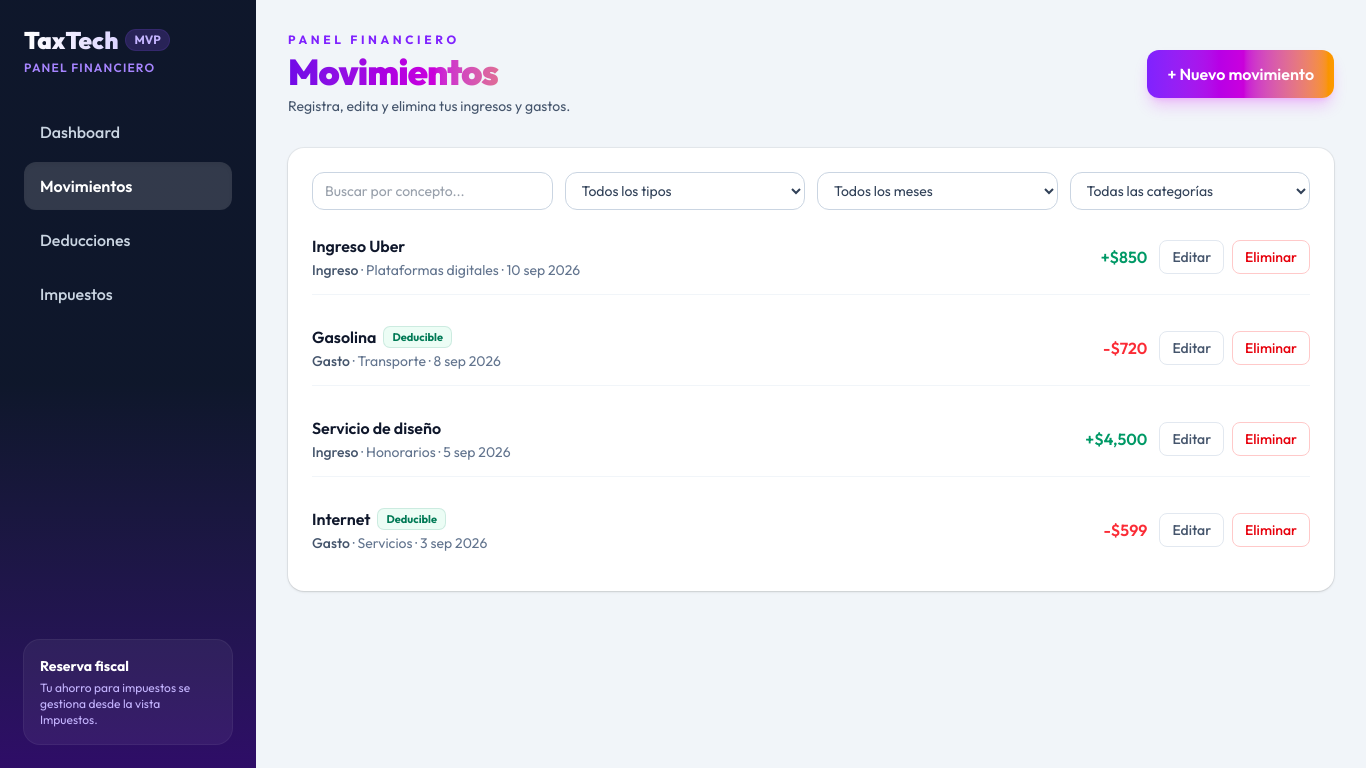
Test case: Movimientos — listado › distingue "sin resultados" cuando los filtros no coinciden
Expected: the text "Ingreso Uber" is shown, [312,234,405,258]
Type "no-existe-nada" into the field named "Buscar movimientos" at [432, 191], box [312,172,552,210]
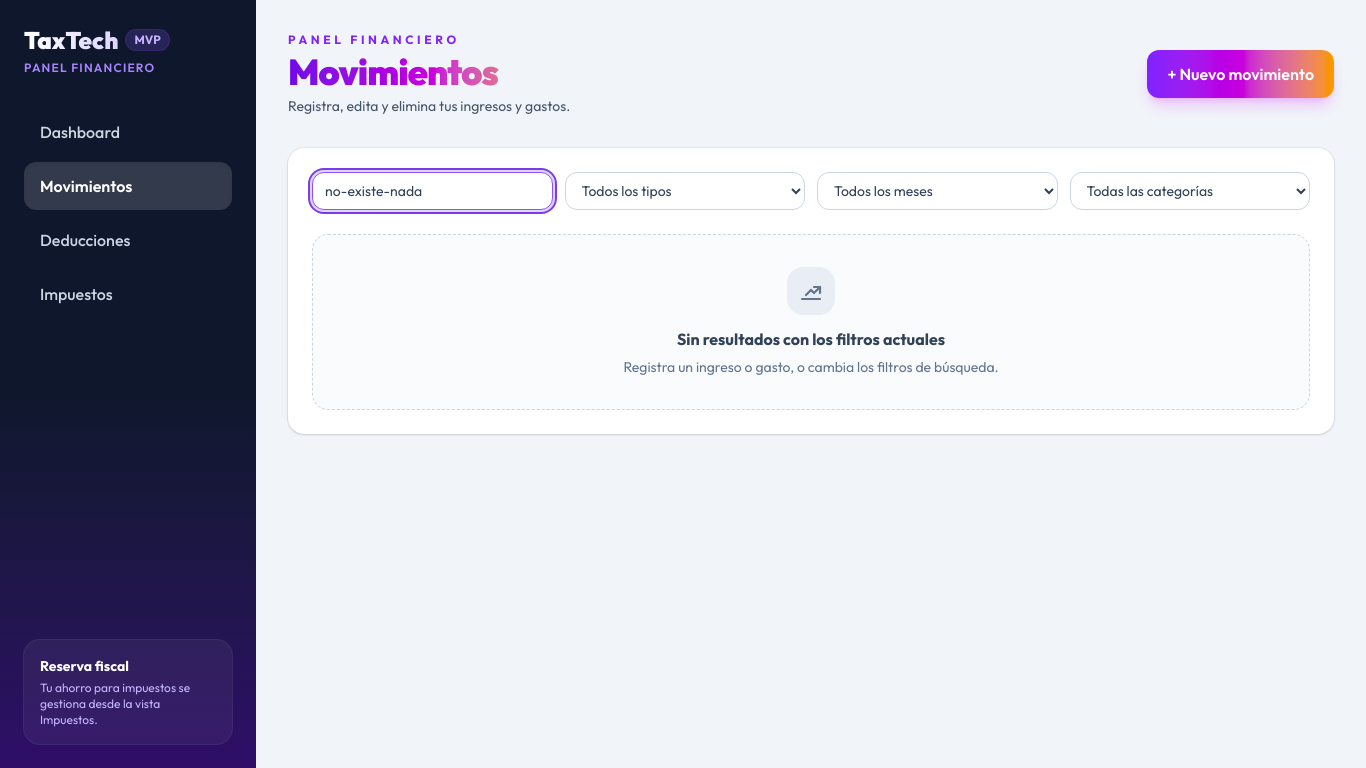
Expected: the text "Sin resultados con los filtros actuales" is shown, [677,327,945,351]
